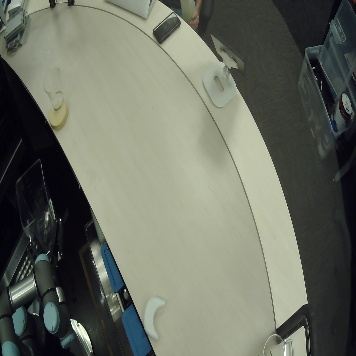empty_cup: (37, 67, 68, 113), (258, 331, 289, 356)
puck: (136, 294, 171, 341), (44, 99, 78, 135)
